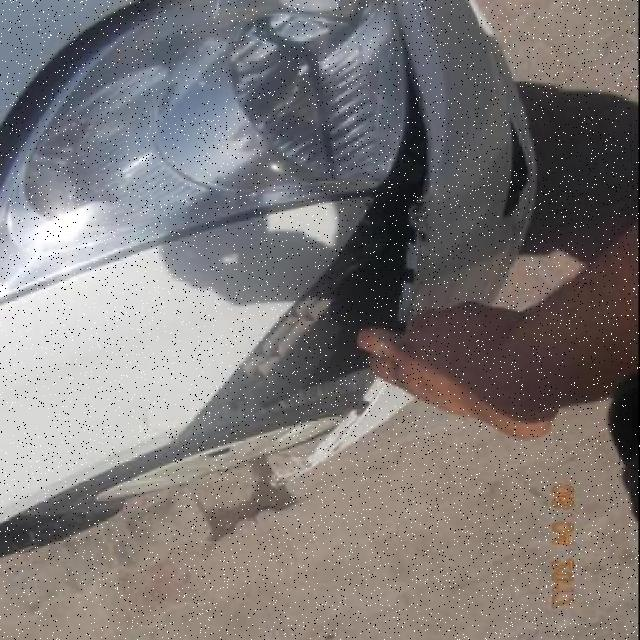damage: (170, 24, 433, 488)
